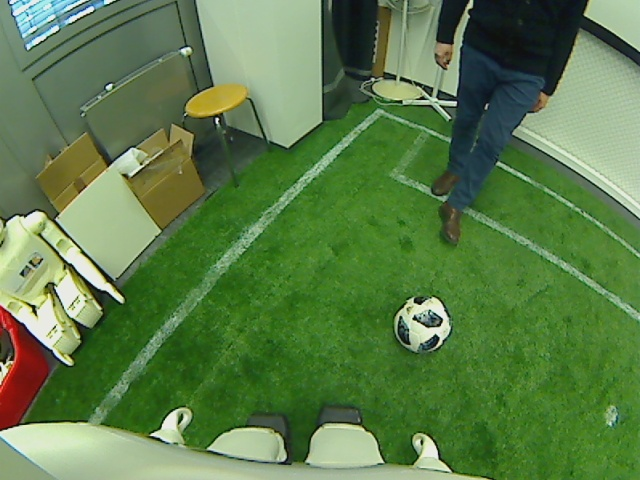ball: (393, 292, 452, 357)
